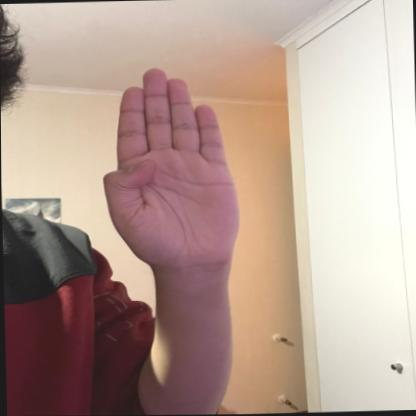B: (94, 64, 242, 263)
